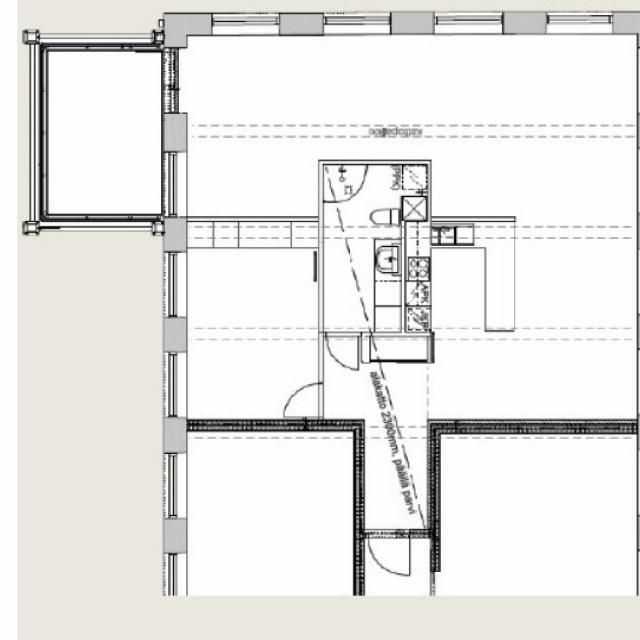door: (368, 530, 410, 580), (284, 384, 324, 416), (327, 332, 358, 366)
